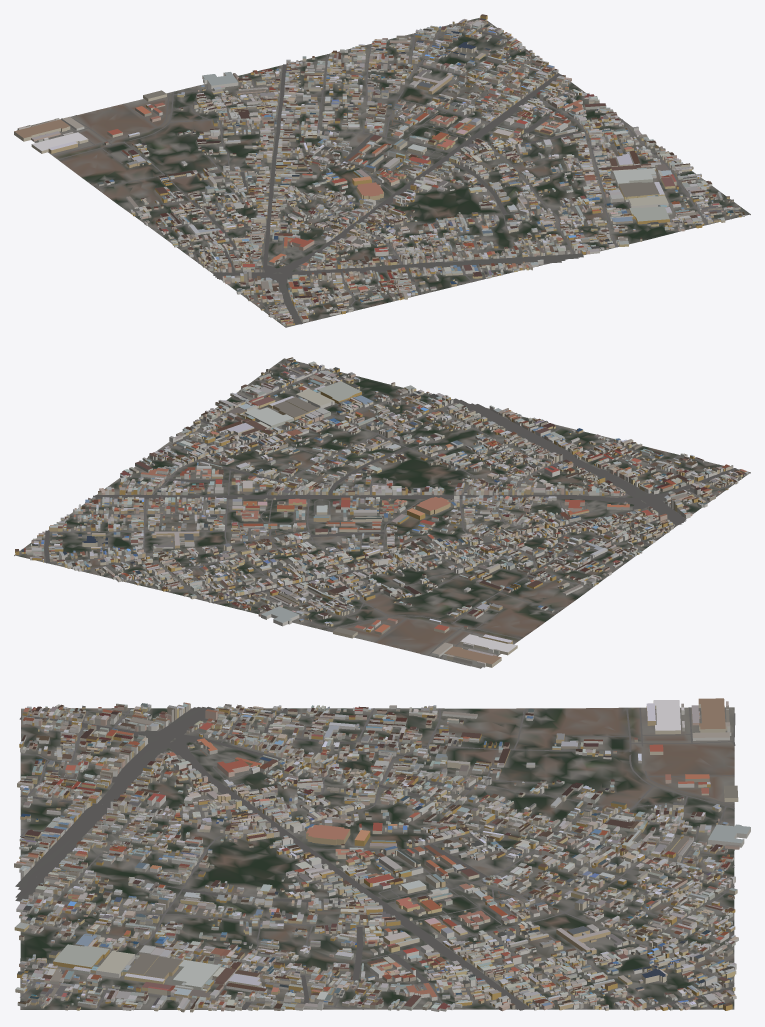
The picture shows the model from 3 angles, top to bottom: view 1: azimuth 30°, elevation 25°; view 2: azimuth 150°, elevation 25°; view 3: azimuth 270°, elevation 25°; orthographic projection. The views are drawn at different scales.
Visible parts, largest first — view 1: buildings, ground, roads; view 2: buildings, ground, roads; view 3: buildings, ground, roads.
Part boxes in pixels (box(x1,y1,x2,y2)): buildings: box(14, 14, 744, 325); ground: box(32, 17, 750, 327); roads: box(34, 23, 731, 324); buildings: box(15, 357, 748, 667); ground: box(14, 358, 750, 668); roads: box(22, 363, 738, 666); buildings: box(14, 698, 750, 1012); ground: box(20, 707, 734, 1009); roads: box(15, 706, 735, 1010).
Size of the model in its own units: 1431 by 31.24 by 1446.
